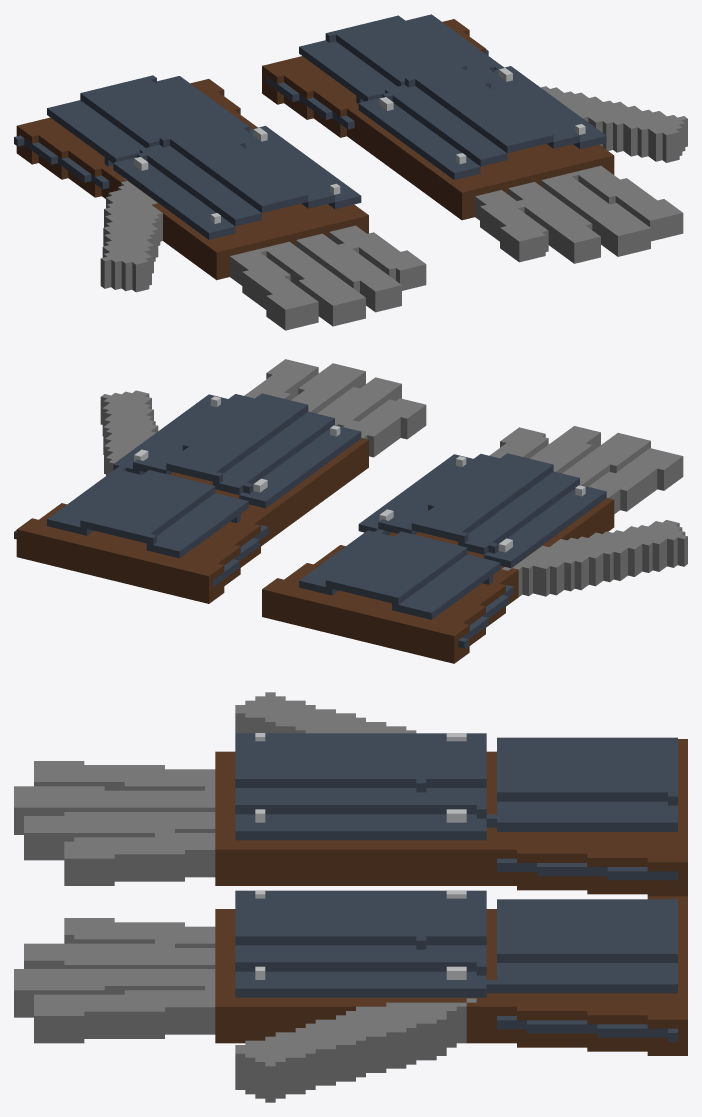
The model's file is hc_demi_gaunt.glb.
3 renders of one model, top to bottom at view 1: azimuth 30°, elevation 25°; view 2: azimuth 150°, elevation 25°; view 3: azimuth 270°, elevation 25°, orthographic. The views are drawn at different scales.
Visible parts, largest first — view 1: hc_demi_gaunt:compound; view 2: hc_demi_gaunt:compound; view 3: hc_demi_gaunt:compound.
Boxes of the visible parts, <box> form: hc_demi_gaunt:compound: <box>14,14,687,330</box>; hc_demi_gaunt:compound: <box>14,359,687,663</box>; hc_demi_gaunt:compound: <box>14,692,687,1102</box>.
Size of the model in its own units: 0.352 by 0.032 by 0.268.
